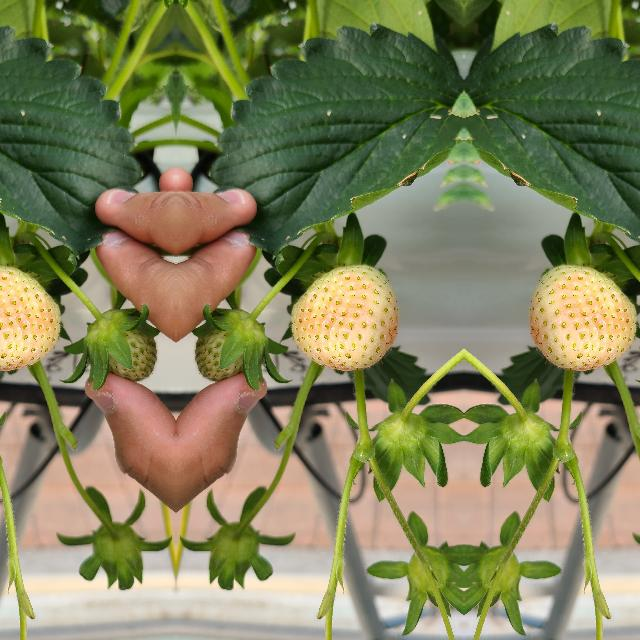Health_25: (288, 262, 398, 372), (528, 262, 638, 372), (0, 262, 61, 372), (188, 312, 266, 382), (85, 312, 162, 382)
